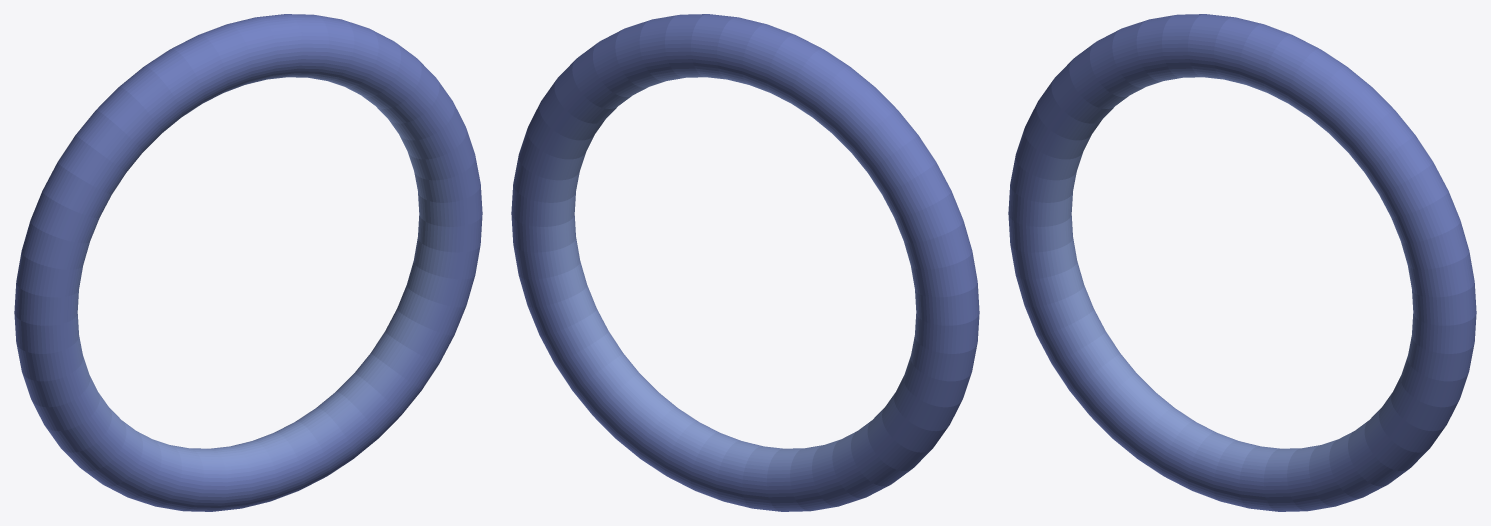
3 renders of one model, left to right at view 1: azimuth 30°, elevation 25°; view 2: azimuth 150°, elevation 25°; view 3: azimuth 330°, elevation 25°, orthographic.
Visible parts, largest first — view 1: world; view 2: world; view 3: world.
Boxes of the visible parts, x1,y1,x2,y2 form: world: (14,14,482,511); world: (511,14,979,511); world: (1008,14,1476,511).
Bounding box in the file's own units: 23.47 × 23.42 × 2.79.
